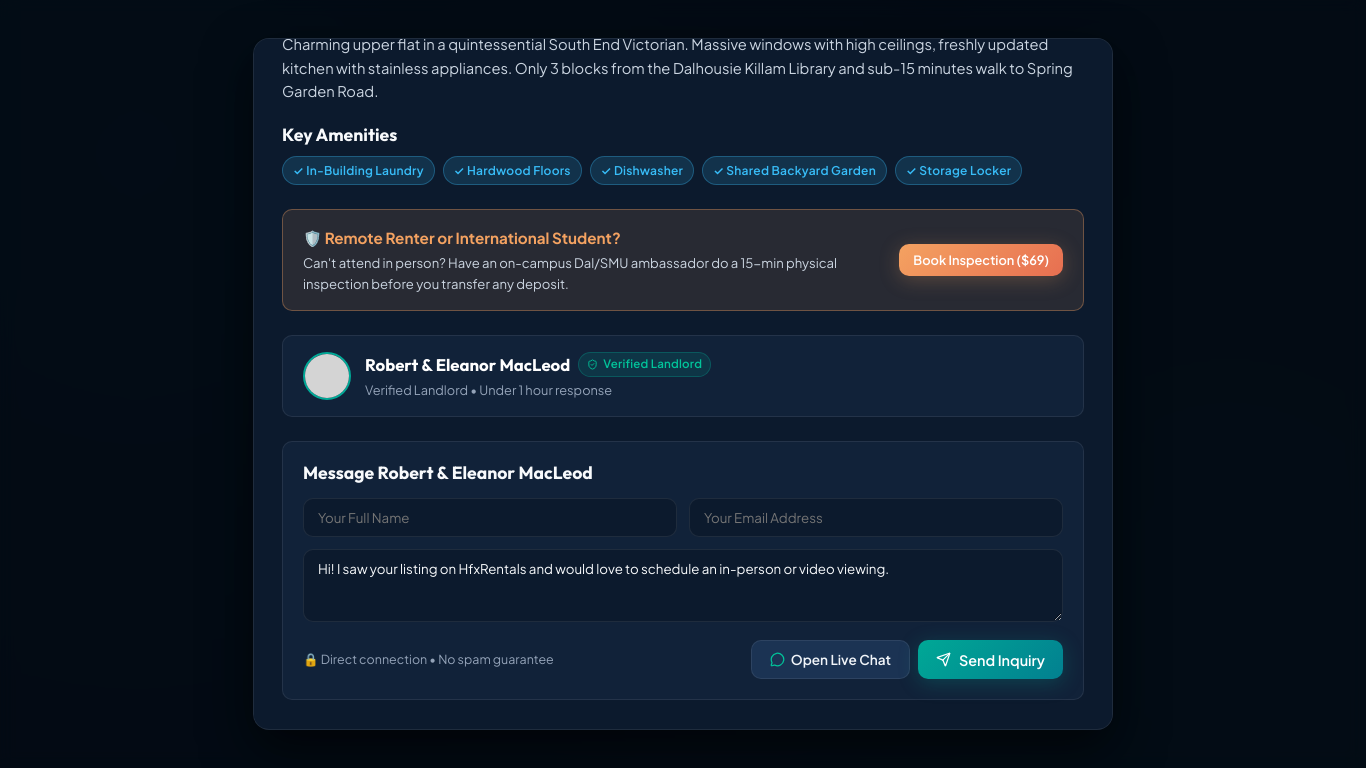
Test: ListingDetailModal Integration Tests › Authentication & Messaging Barriers › displays and submits inquiry form when currentUser is authenticated
The image size is (1366, 768).
(page scrolled)
Expected: the button "Send Inquiry" is shown, [918,640,1063,679]
In the field with placeholder "Your Full Name": (490, 518) [303,498,677,537], type "Jordan MacLean"
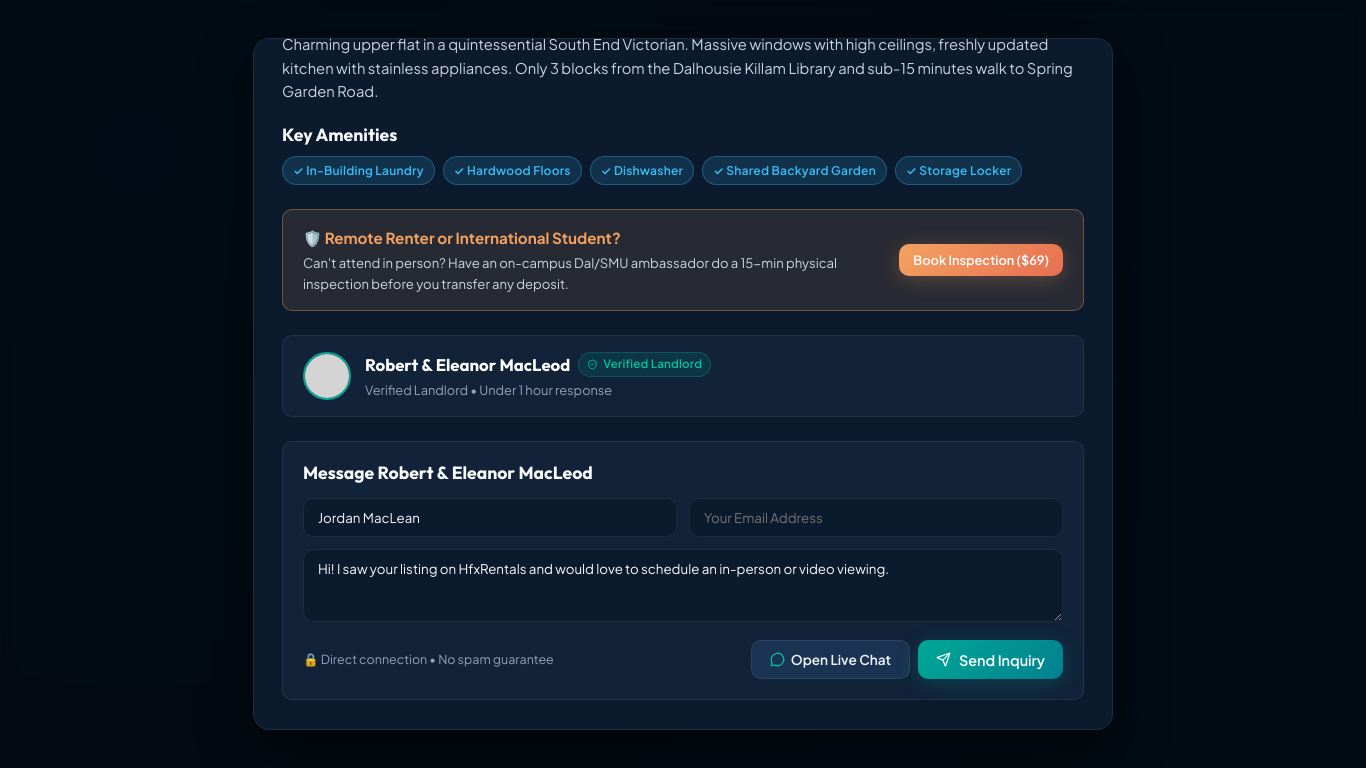
In the field with placeholder "Your Email Address": (876, 518) [689,498,1063,537], type "jordan@dal.ca"
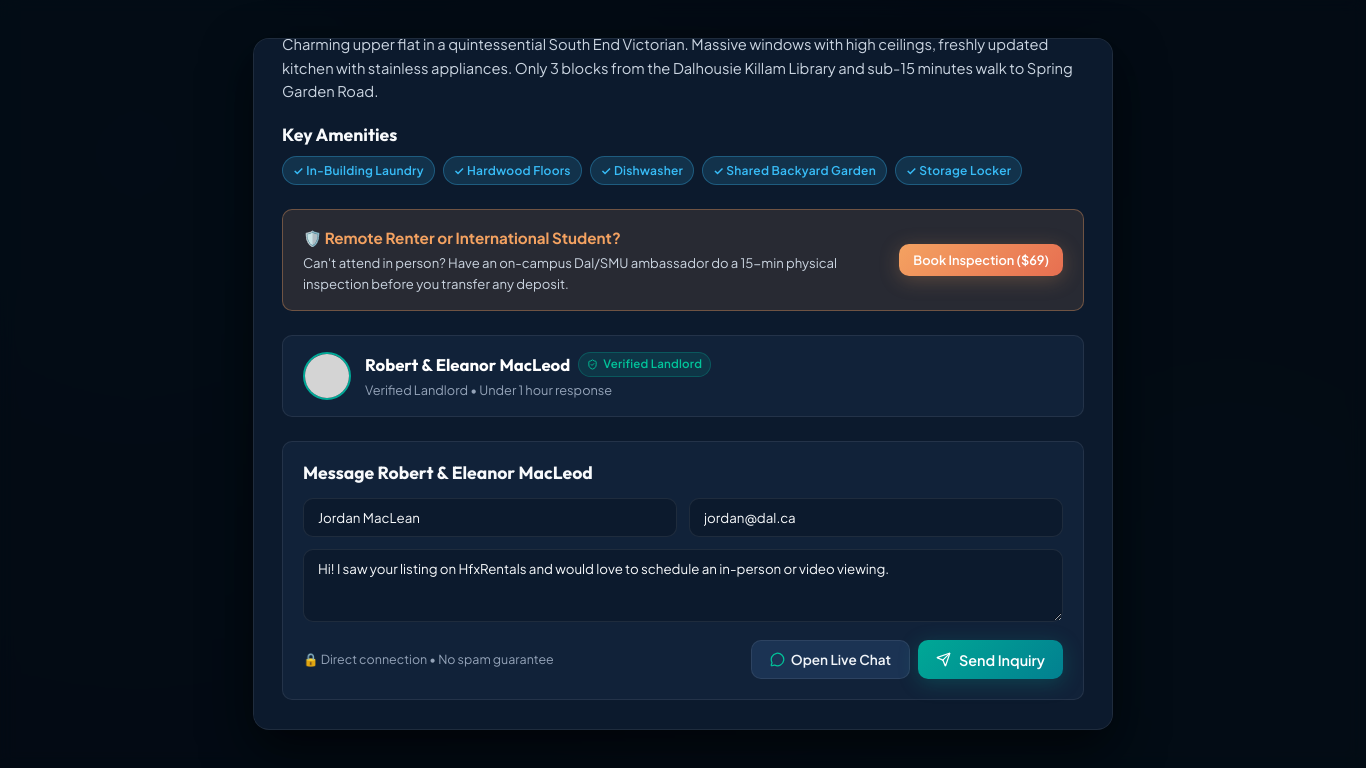
Click the button "Send Inquiry": click(990, 660) [918,640,1063,679]
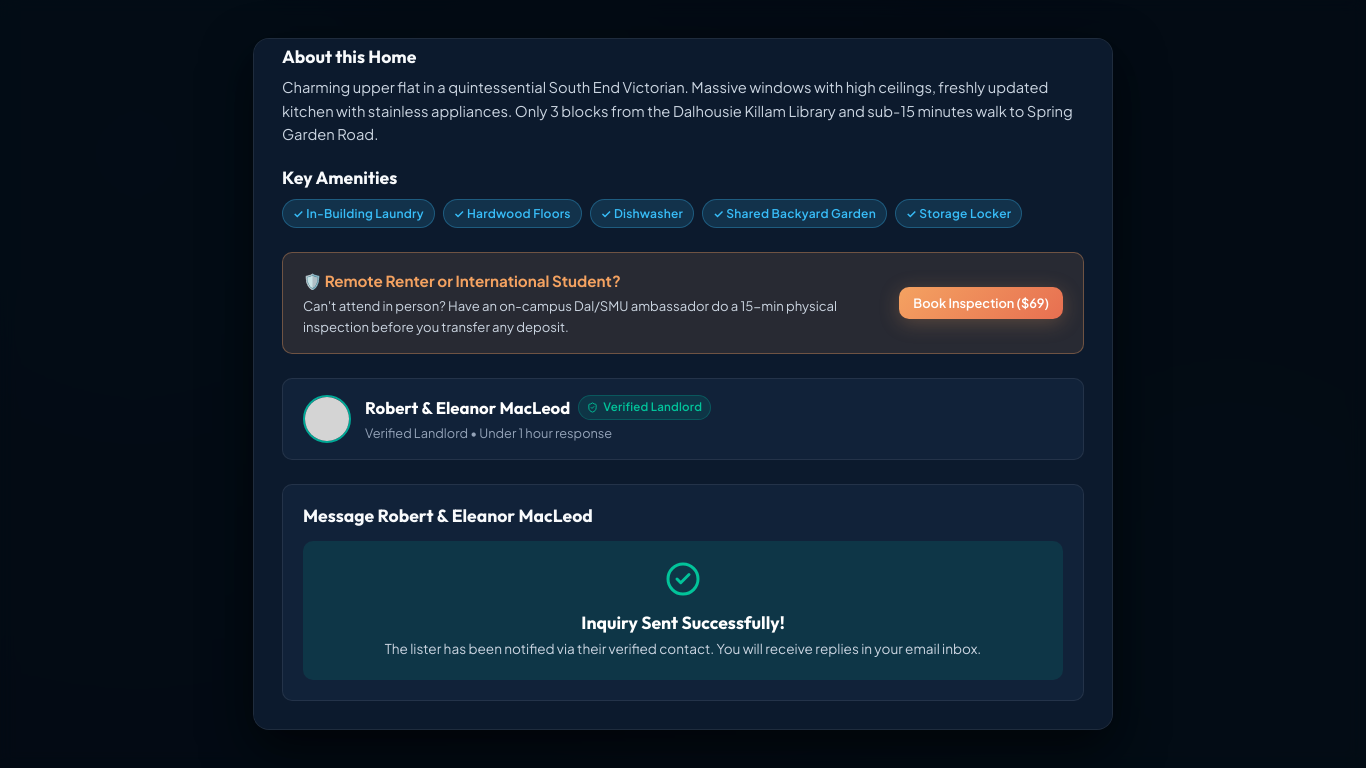
Result: the heading "Inquiry Sent Successfully!" is shown at [581,611,785,634]
